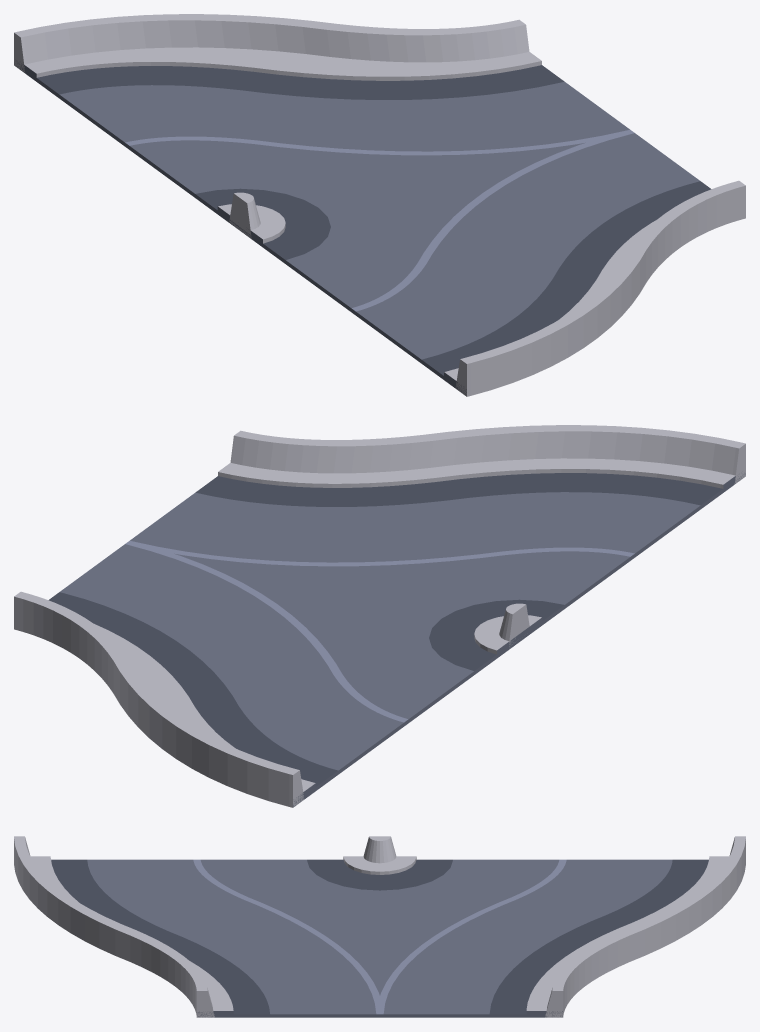
File: road_splitBarrier.glb
The picture shows the model from 3 angles, top to bottom: view 1: azimuth 30°, elevation 25°; view 2: azimuth 150°, elevation 25°; view 3: azimuth 270°, elevation 25°; orthographic projection. The views are drawn at different scales.
Visible parts, largest first — view 1: road_splitBarrier_48d6f8, road_splitBarrier_245e4a, road_splitBarrier_c800ac, road_splitBarrier_bd665b, road_splitBarrier_abe599; view 2: road_splitBarrier_48d6f8, road_splitBarrier_245e4a, road_splitBarrier_c800ac, road_splitBarrier_bd665b, road_splitBarrier_abe599; view 3: road_splitBarrier_48d6f8, road_splitBarrier_245e4a, road_splitBarrier_c800ac, road_splitBarrier_bd665b, road_splitBarrier_abe599.
Boxes of the visible parts, box(x1,y1,x2,y2) form: road_splitBarrier_48d6f8: box(15, 60, 699, 396); road_splitBarrier_245e4a: box(14, 14, 745, 396); road_splitBarrier_c800ac: box(37, 65, 711, 375); road_splitBarrier_bd665b: box(24, 47, 744, 396); road_splitBarrier_abe599: box(125, 129, 634, 311); road_splitBarrier_48d6f8: box(60, 473, 745, 807); road_splitBarrier_245e4a: box(14, 425, 745, 807); road_splitBarrier_c800ac: box(48, 473, 722, 786); road_splitBarrier_bd665b: box(94, 458, 735, 791); road_splitBarrier_abe599: box(125, 540, 634, 722); road_splitBarrier_48d6f8: box(87, 859, 672, 1017); road_splitBarrier_245e4a: box(14, 836, 745, 1017); road_splitBarrier_c800ac: box(51, 859, 708, 1014); road_splitBarrier_bd665b: box(14, 856, 729, 1010); road_splitBarrier_abe599: box(193, 859, 566, 1014).
Size of the model in its own units: 1 by 0.08 by 2.
